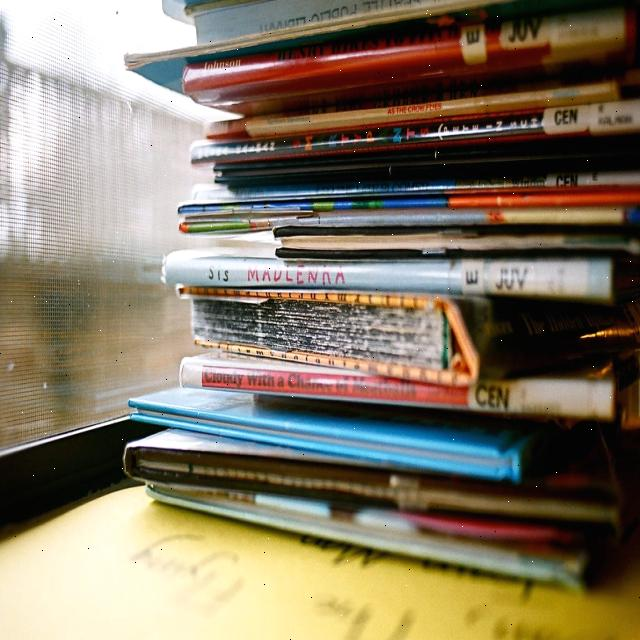book: (186, 8, 628, 89), (192, 102, 640, 162), (208, 82, 626, 143), (182, 363, 614, 415), (167, 263, 612, 296), (196, 169, 638, 200), (181, 211, 631, 232)
